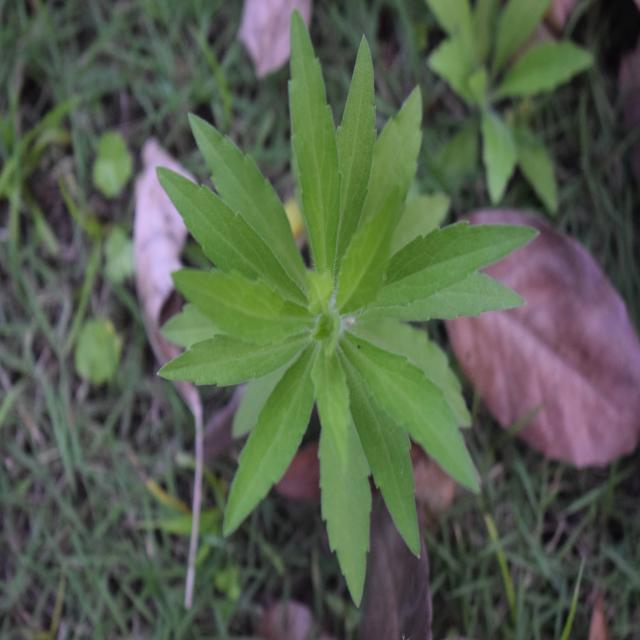horseweed: (170, 56, 505, 546)
